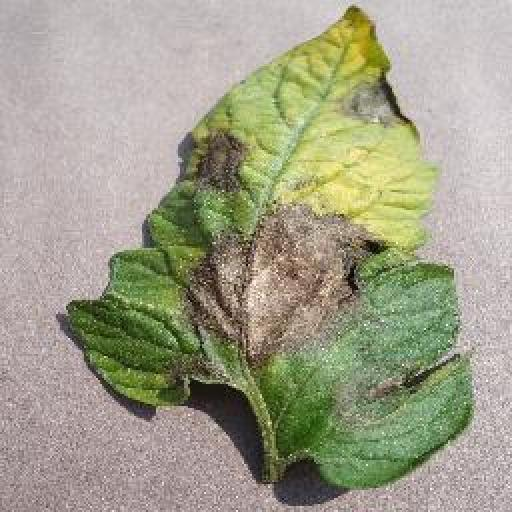disease_tomato: (62, 1, 478, 492)
